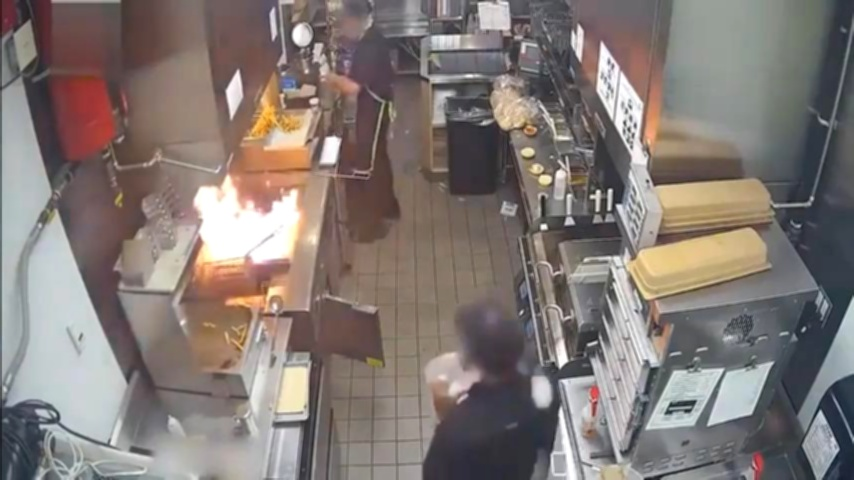fire: (176, 155, 319, 282)
